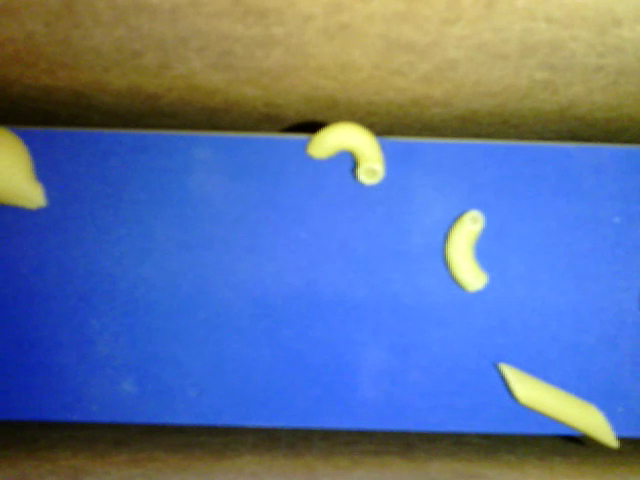elbow: (306, 122, 385, 187), (444, 208, 490, 292)
penne: (499, 362, 621, 448)
shell: (1, 125, 49, 209)
